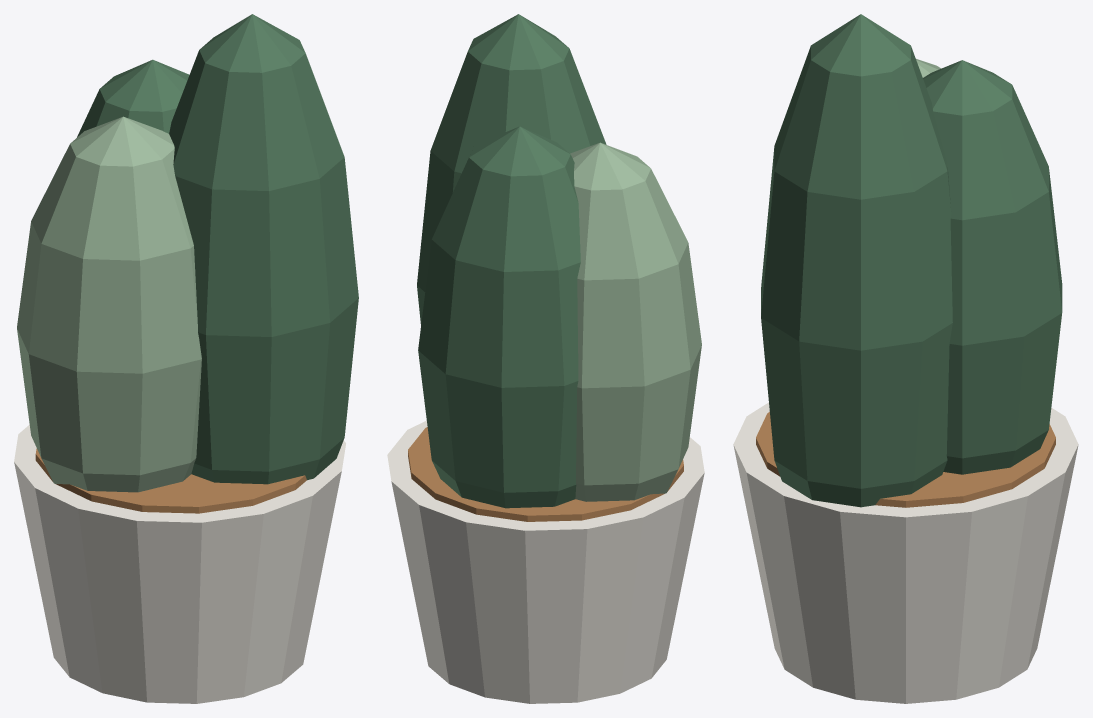
The model's file is SM_Planter.obj.
3 renders of one model, left to right at view 1: azimuth 30°, elevation 25°; view 2: azimuth 150°, elevation 25°; view 3: azimuth 270°, elevation 25°, orthographic. The views are drawn at different scales.
Visible parts, largest first — view 1: SM_Planter; view 2: SM_Planter; view 3: SM_Planter.
Boxes of the visible parts, x1,y1,x2,y2 form: SM_Planter: (14, 14, 358, 703); SM_Planter: (387, 14, 704, 703); SM_Planter: (733, 14, 1078, 703).
Size of the model in its own units: 0.94 by 1.94 by 0.92.
